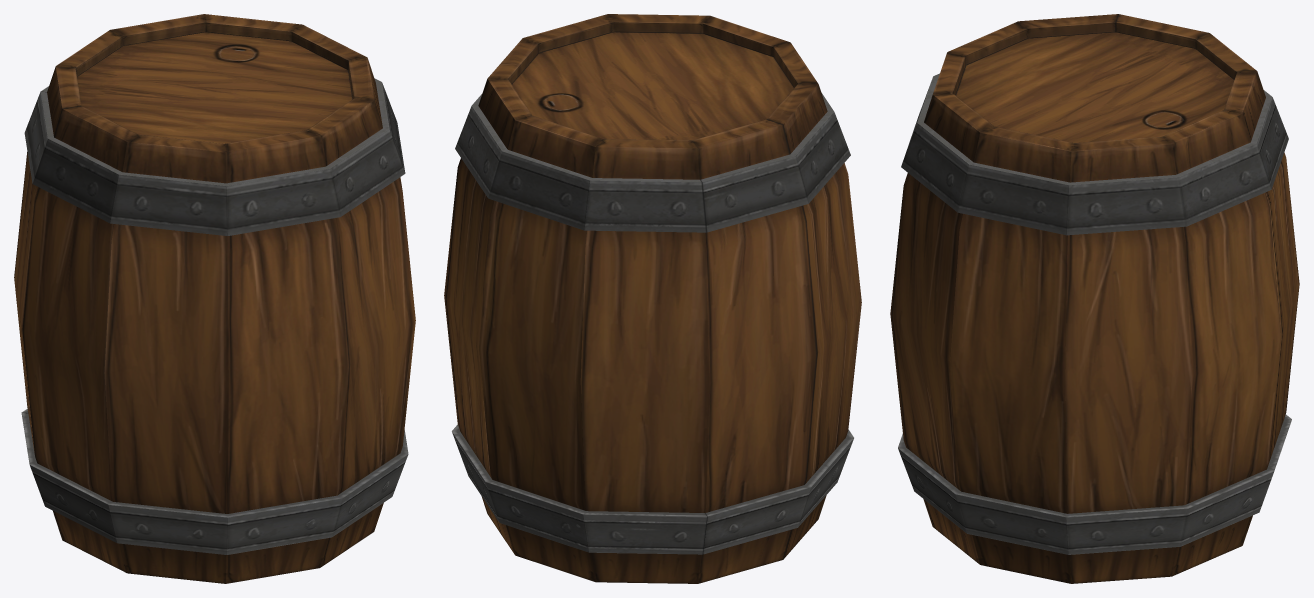
The model's file is modelBarrel.fbx.
The picture shows the model from 3 angles, left to right: view 1: azimuth 30°, elevation 25°; view 2: azimuth 150°, elevation 25°; view 3: azimuth 270°, elevation 25°; orthographic projection.
Parts seen in each view (by area): view 1: modelBarrel; view 2: modelBarrel; view 3: modelBarrel.
Boxes of the visible parts, x1,y1,x2,y2 form: modelBarrel: (14, 14, 415, 583); modelBarrel: (444, 14, 861, 583); modelBarrel: (890, 14, 1299, 583).
Bounding box in the file's own units: 6.89 × 8 × 6.86.
